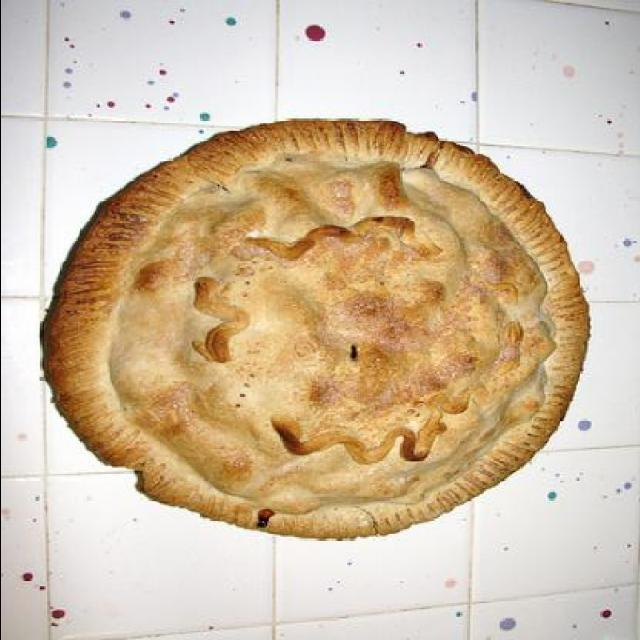Apple: (37, 126, 591, 542)
